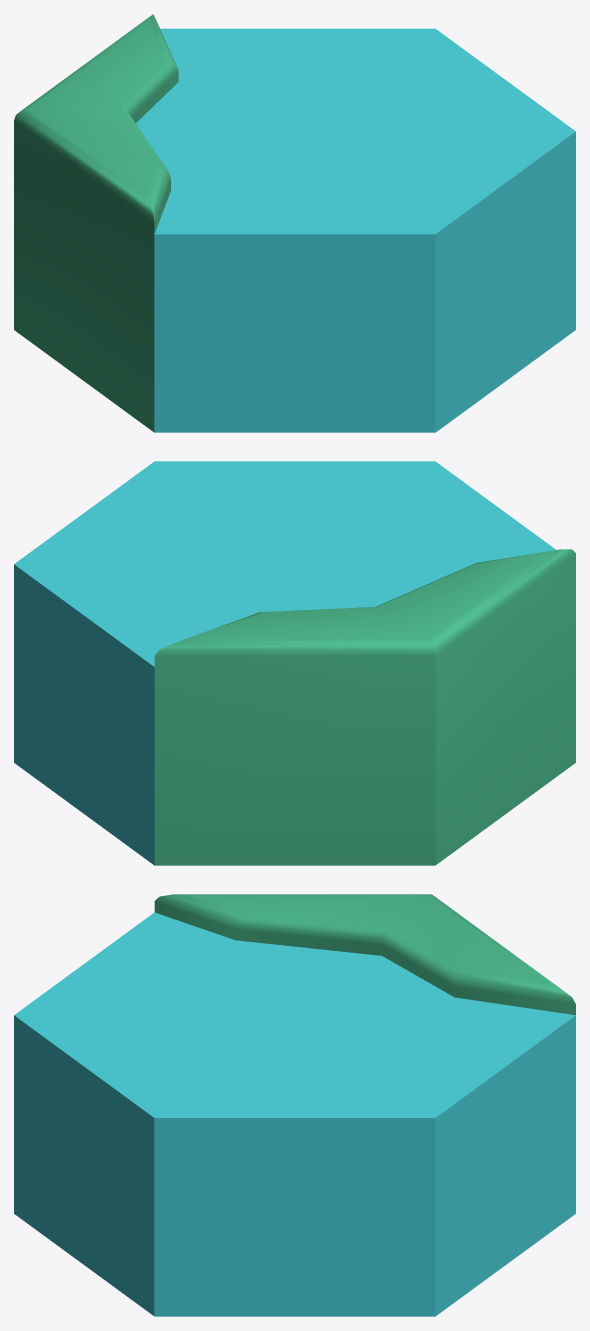
File: hex_forest_waterA.glb
3 views of the same model, one above another, from view 1: azimuth 30°, elevation 25°; view 2: azimuth 150°, elevation 25°; view 3: azimuth 270°, elevation 25° (orthographic).
Visible parts, largest first — view 1: hex_forest_waterA; view 2: hex_forest_waterA; view 3: hex_forest_waterA.
Boxes of the visible parts, x1,y1,x2,y2 form: hex_forest_waterA: (14, 14, 575, 432); hex_forest_waterA: (14, 461, 575, 865); hex_forest_waterA: (14, 894, 575, 1316).
Bounding box in the file's own units: 2 × 1 × 2.31.
